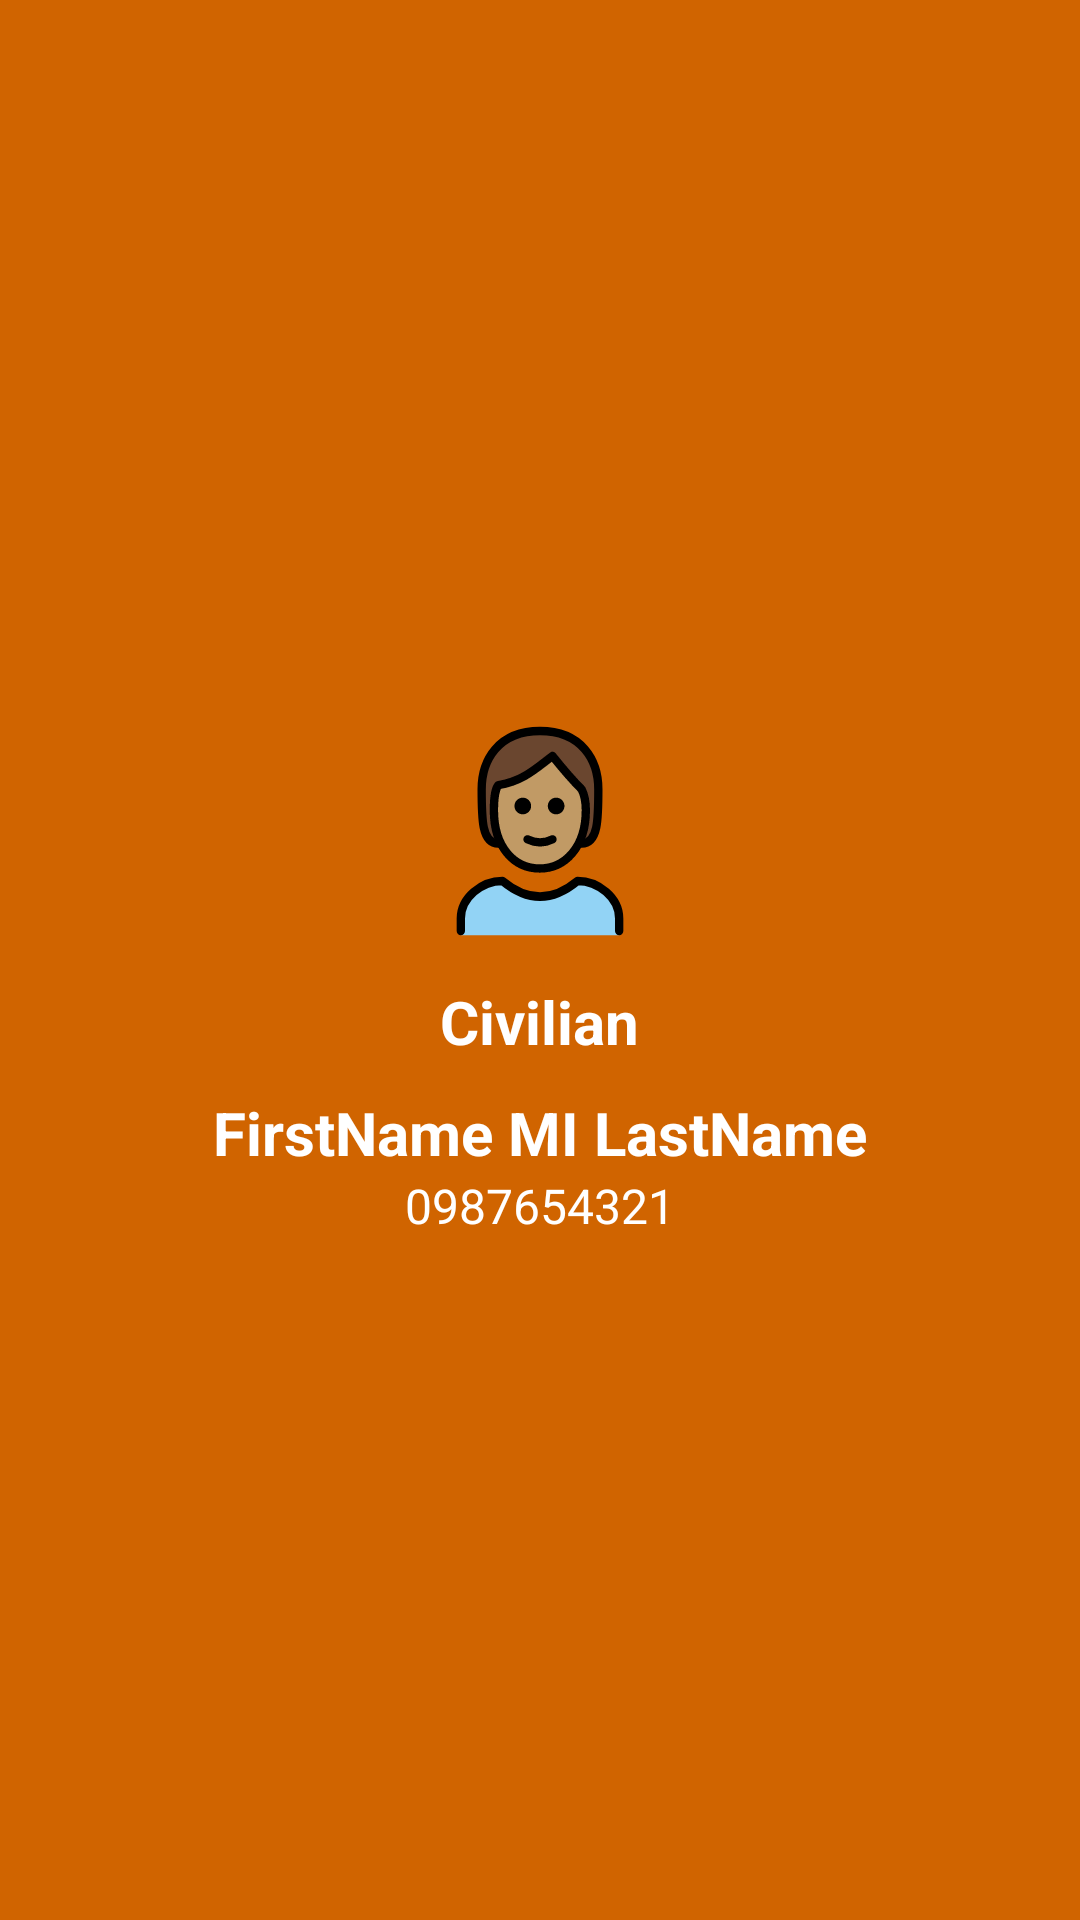

Icons on this 1080x1920 Android screen, each with the point to tap as (x,y):
emoji person female: (540,831)
